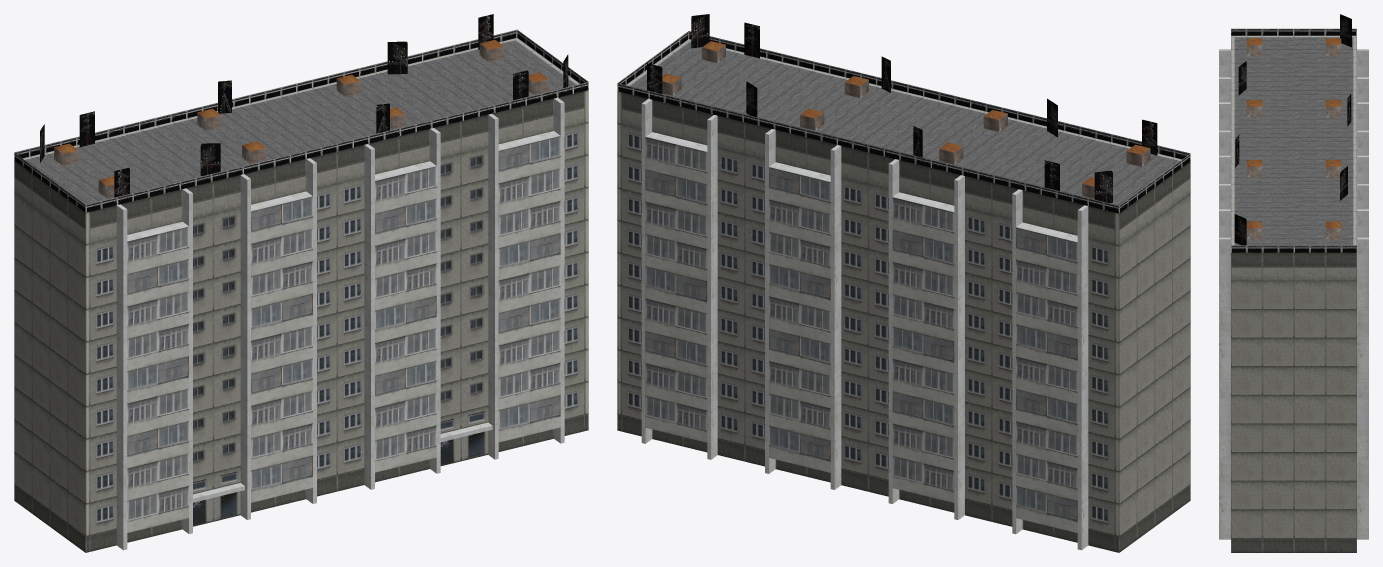
The model's file is rus_build_9et_02.fbx.
3 renders of one model, left to right at view 1: azimuth 30°, elevation 25°; view 2: azimuth 150°, elevation 25°; view 3: azimuth 270°, elevation 25°, orthographic. The views are drawn at different scales.
Visible parts, largest first — view 1: Regroup13, rus_build_dec_01; view 2: Regroup13, rus_build_dec_01; view 3: Regroup13, rus_build_dec_01.
Boxes of the visible parts, x1=… form: Regroup13: x1=14, y1=38, x2=588, y2=552; rus_build_dec_01: x1=14, y1=14, x2=588, y2=212; Regroup13: x1=617, y1=39, x2=1190, y2=552; rus_build_dec_01: x1=617, y1=14, x2=1190, y2=213; Regroup13: x1=1219, y1=35, x2=1368, y2=552; rus_build_dec_01: x1=1231, y1=14, x2=1356, y2=252.
Bounding box in the file's own units: 4550 × 3220 × 1330.
